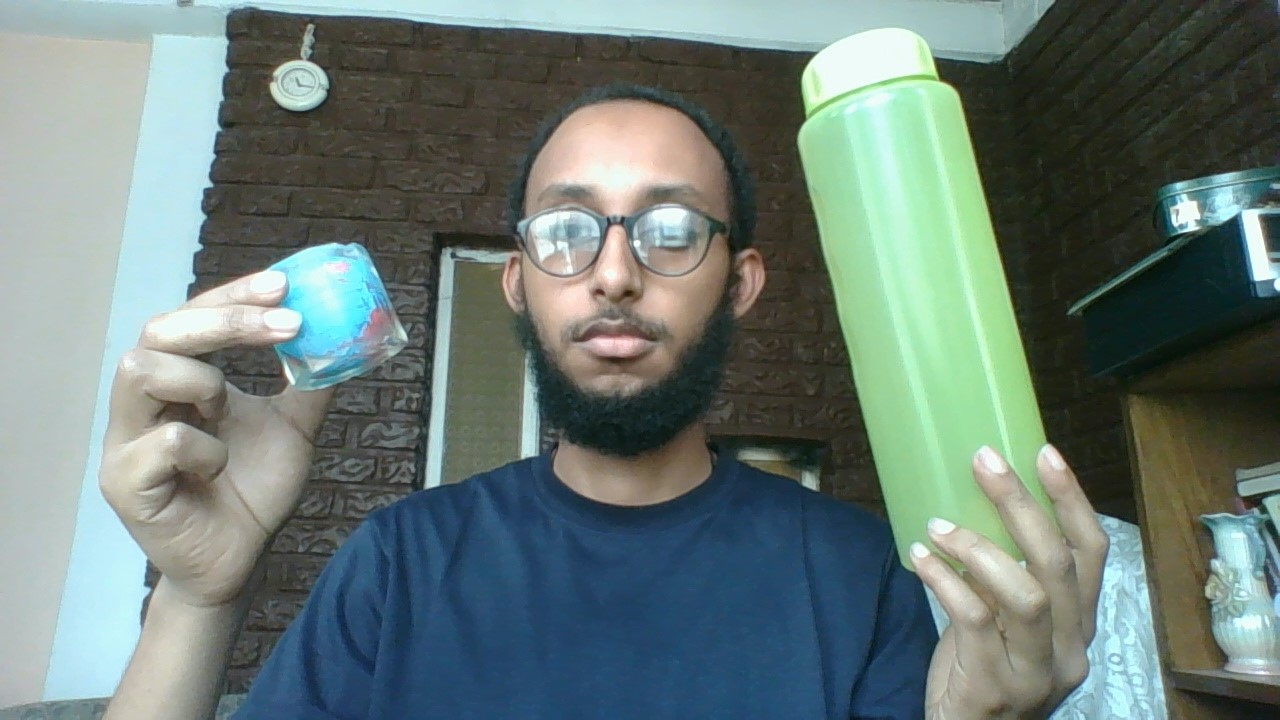Water_bottle: (793, 20, 1073, 584)
world_globe: (241, 237, 413, 398)
